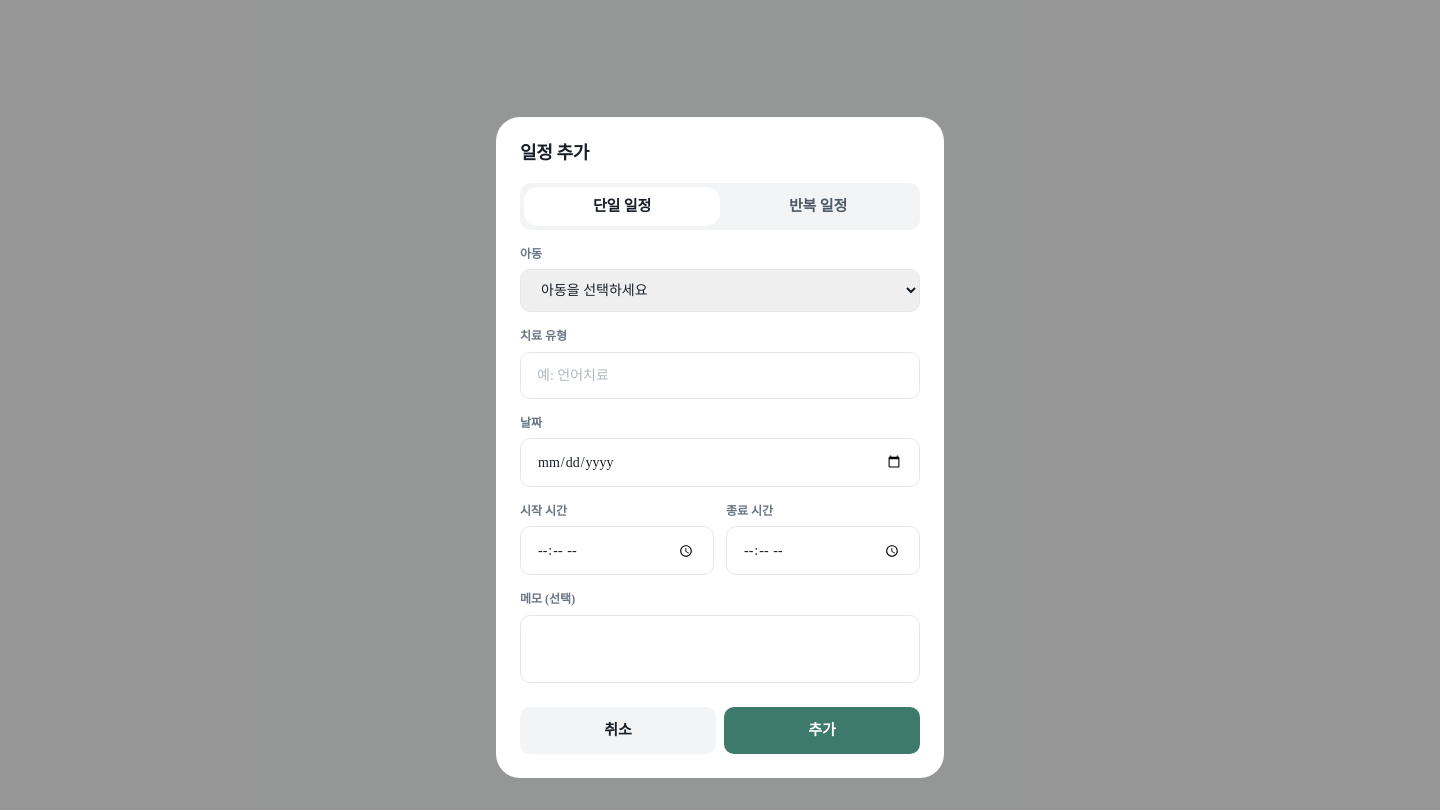
CreateScheduleForm › 반복 일정 탭을 클릭하면 요일·기간 입력으로 바뀐다
Click the tab "반복 일정" at [818, 206], box [720,186,916,226]
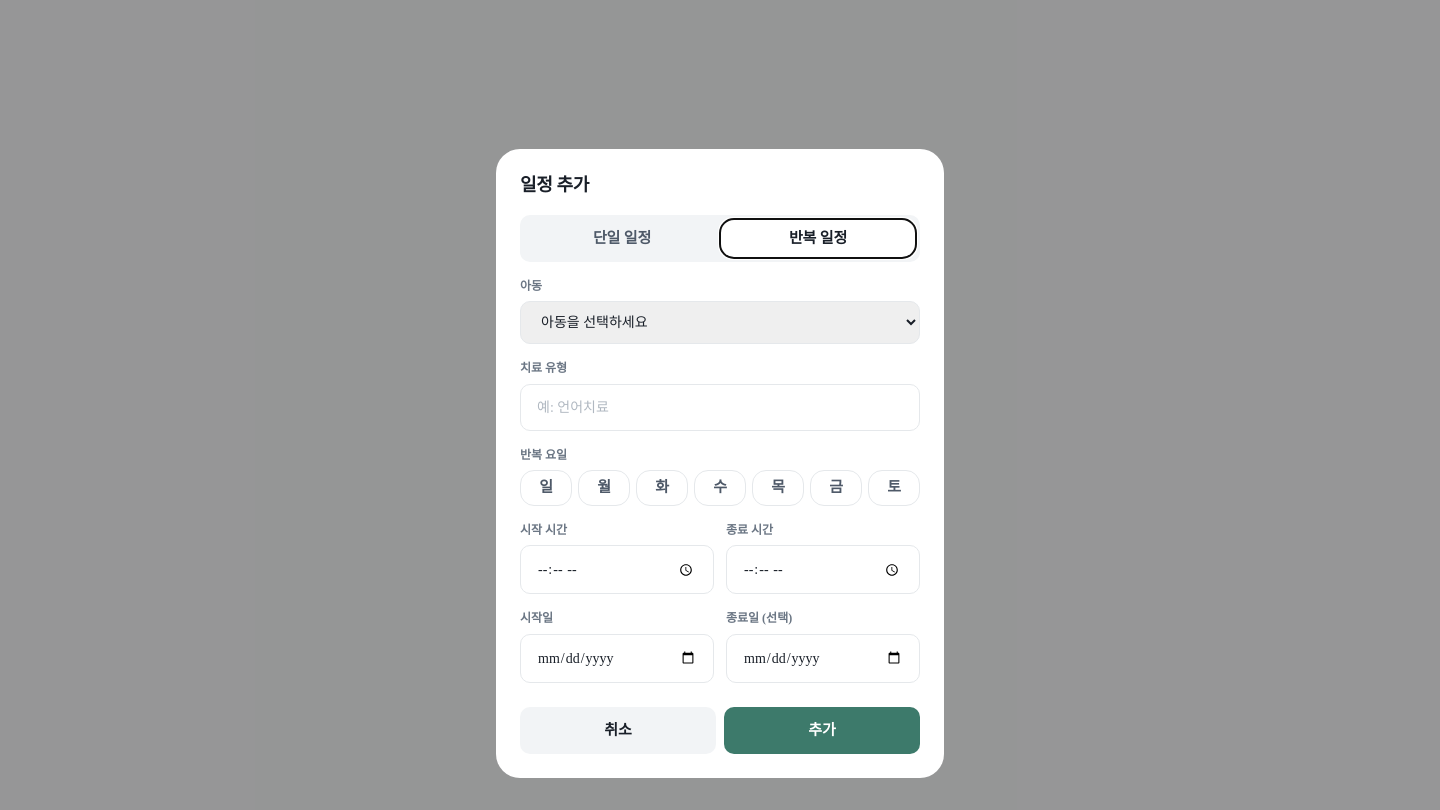
Check: the text "반복 요일" is shown, box [520,448,567,462]
Check: the text "시작일" is shown, box [520,611,553,625]
Check: the text "메모 (선택)" is gone
